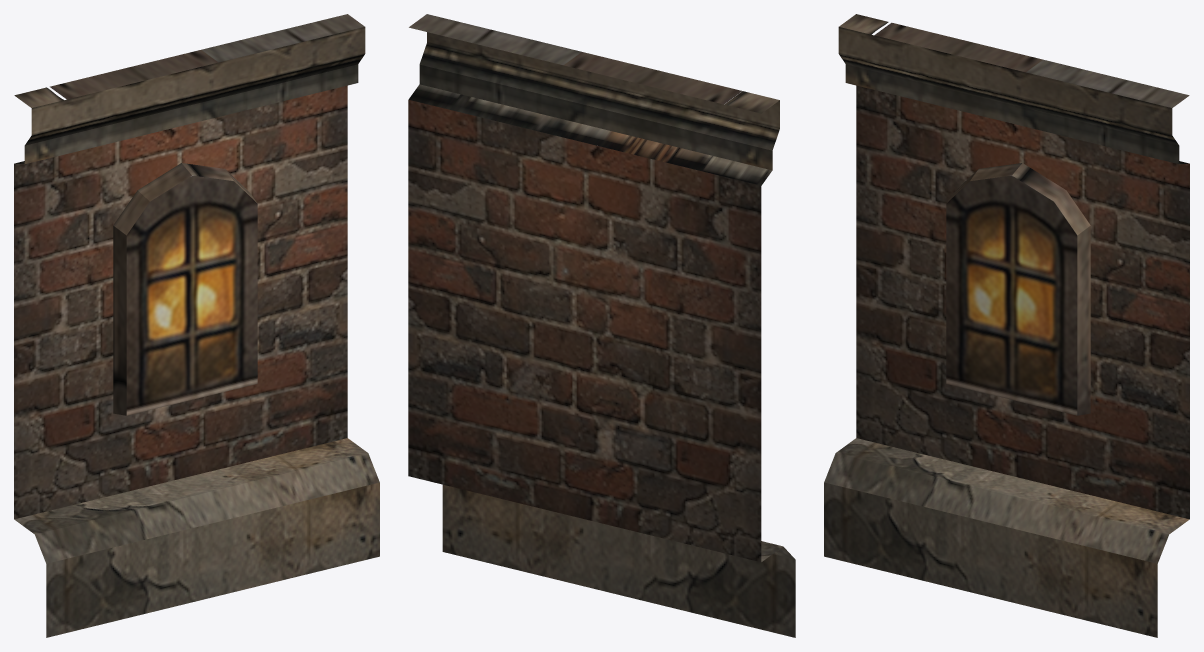
File: wall_brick_1.fbx
3 views of the same model, side by side, from view 1: azimuth 30°, elevation 25°; view 2: azimuth 150°, elevation 25°; view 3: azimuth 330°, elevation 25° (orthographic). The views are drawn at different scales.
Parts seen in each view (by area): view 1: wall_brick_1; view 2: wall_brick_1; view 3: wall_brick_1.
Part boxes in pixels (bbox=[...]): wall_brick_1: bbox=[14, 14, 379, 637]; wall_brick_1: bbox=[408, 14, 795, 637]; wall_brick_1: bbox=[824, 14, 1189, 637].
Bounding box in the file's own units: 3 × 4.46 × 0.5012.
